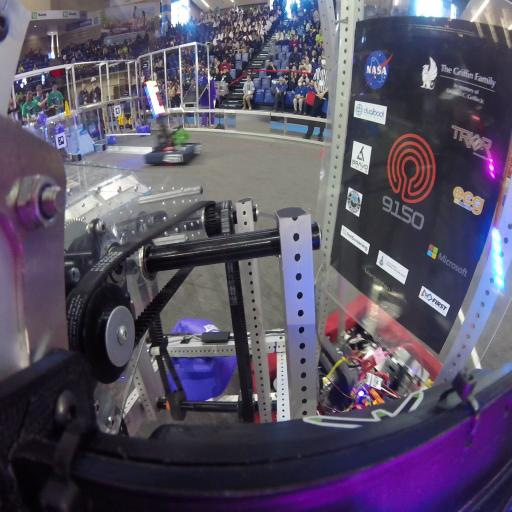robot: (141, 96, 202, 166)
